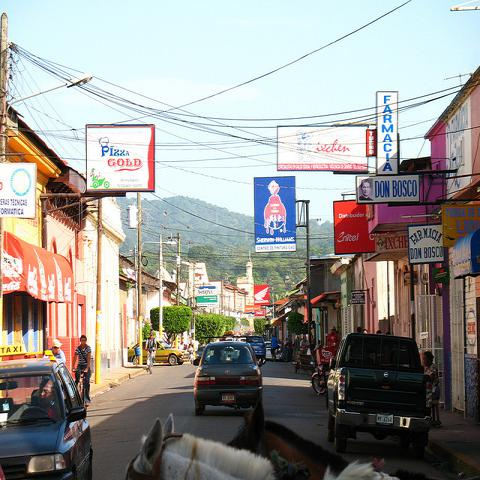car: (0, 361, 95, 479), (194, 333, 264, 417), (127, 340, 185, 366), (246, 336, 266, 363), (196, 346, 210, 360), (265, 342, 273, 359), (241, 338, 246, 342)
motorcycle: (311, 347, 335, 395)
truck: (322, 335, 436, 460)
